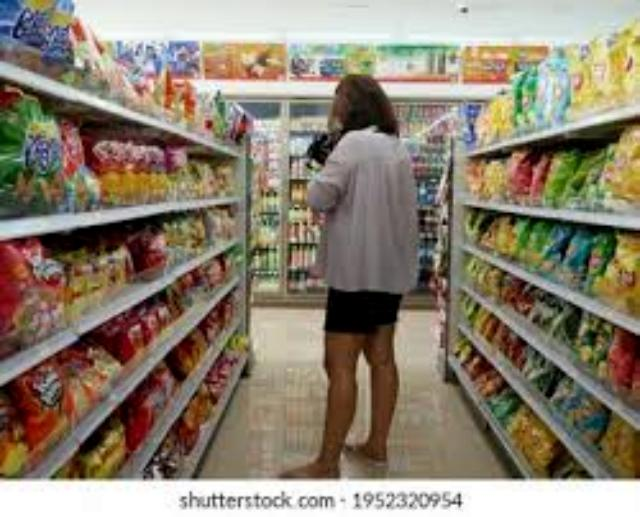background: (0, 0, 640, 476)
